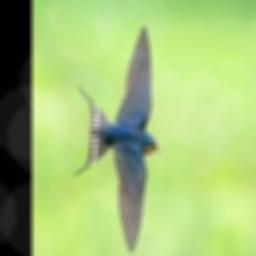Swallow: (72, 26, 160, 254)
